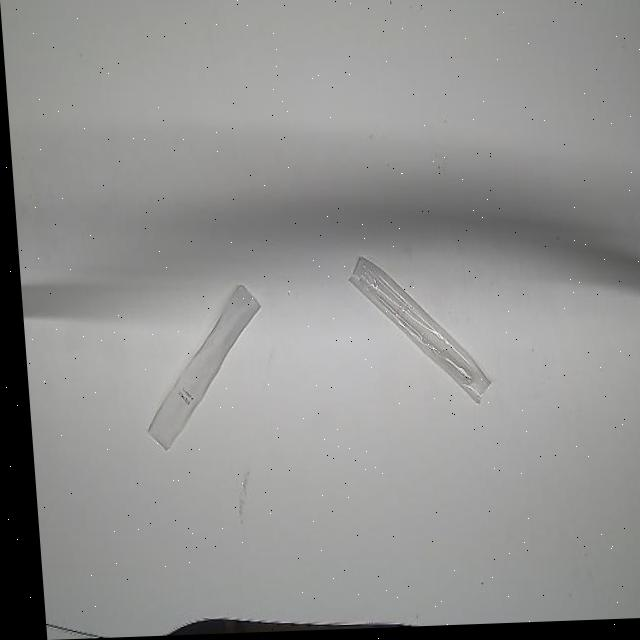Disposable Pasteur Pipette - Sealed: (341, 252, 491, 418), (132, 280, 266, 454)
